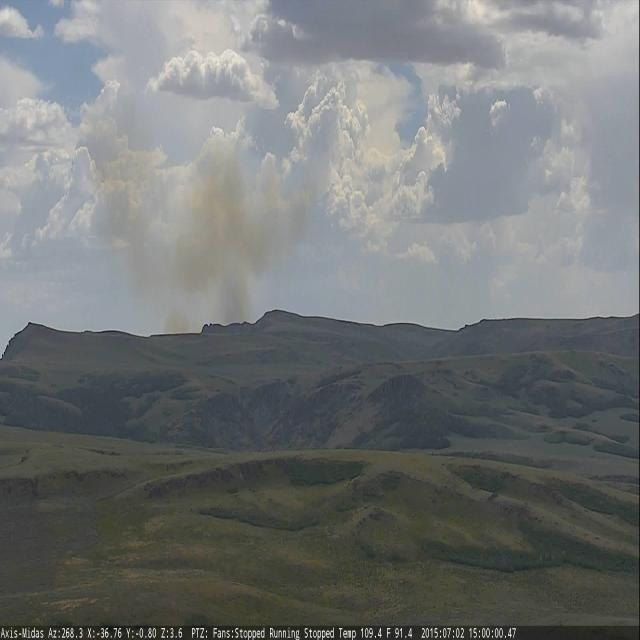smoke: (156, 163, 314, 338)
